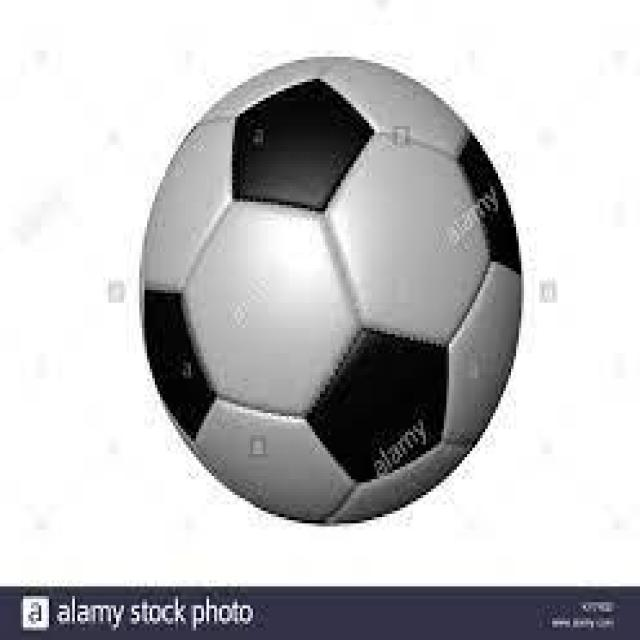Soccer Ball: (142, 60, 526, 526)
